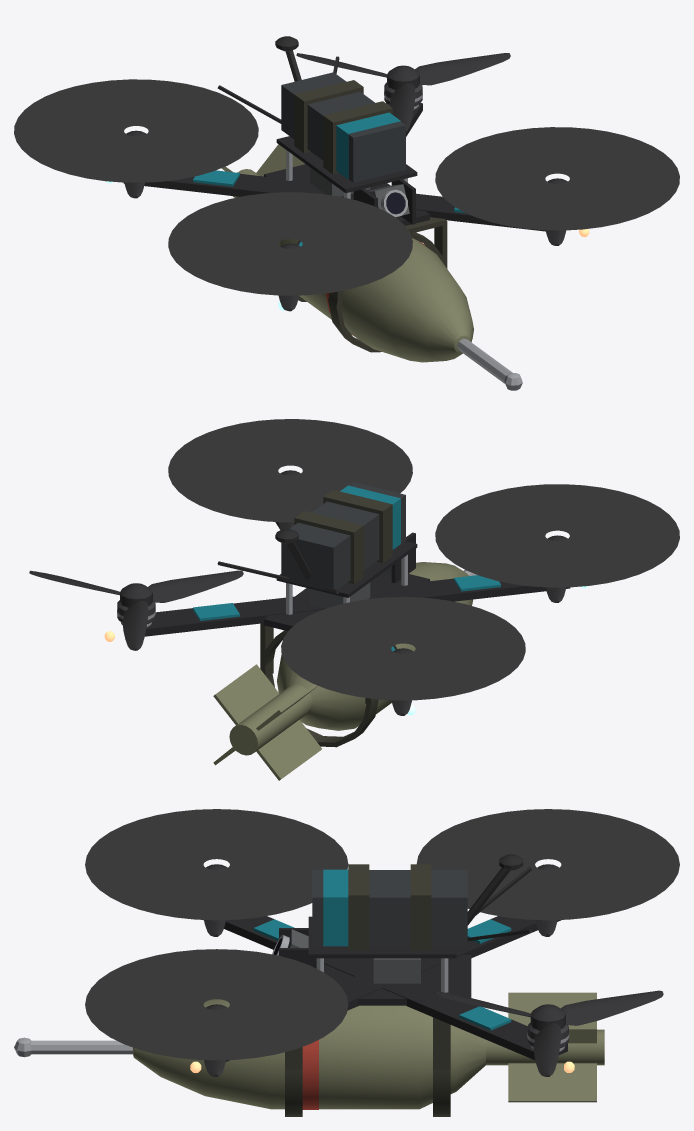
The model's file is Drone_Kamikaze.fbx.
3 views of the same model, one above another, from view 1: azimuth 30°, elevation 25°; view 2: azimuth 150°, elevation 25°; view 3: azimuth 270°, elevation 25° (orthographic). The views are drawn at different scales.
Parts seen in each view (by area): view 1: Blur_1, Blur_2, Blur_0, Body_Warhead, Body_Carbon, Body_Battery, Body_Strap, Prop_3, Body_TealMark, Body_MotorMetal, Body_Rubber, Body_ShellGray; view 2: Blur_0, Blur_1, Blur_2, Body_Warhead, Body_Carbon, Body_Battery, Body_Strap, Prop_3, Body_TealMark, Body_Rubber, Body_ShellGray; view 3: Body_Warhead, Blur_2, Blur_0, Blur_1, Body_Carbon, Body_Battery, Body_Strap, Prop_3, Body_TealMark, Body_MotorMetal, Body_ShellGray, Body_Rubber (+1 smaller).
Part boxes in pixels (x1=…): Blur_1: x1=14, y1=79, x2=258, y2=182; Blur_2: x1=435, y1=127, x2=679, y2=230; Blur_0: x1=168, y1=192, x2=412, y2=295; Body_Warhead: x1=221, y1=144, x2=473, y2=362; Body_Carbon: x1=123, y1=103, x2=545, y2=245; Body_Battery: x1=281, y1=72, x2=405, y2=182; Body_Strap: x1=294, y1=80, x2=447, y2=352; Prop_3: x1=296, y1=53, x2=510, y2=131; Body_TealMark: x1=193, y1=112, x2=465, y2=246; Body_MotorMetal: x1=286, y1=104, x2=522, y2=390; Body_Rubber: x1=217, y1=36, x2=339, y2=123; Body_ShellGray: x1=310, y1=167, x2=409, y2=215; Blur_0: x1=435, y1=484, x2=679, y2=587; Blur_1: x1=281, y1=597, x2=525, y2=700; Blur_2: x1=168, y1=419, x2=412, y2=522; Body_Warhead: x1=213, y1=562, x2=472, y2=780; Body_Carbon: x1=145, y1=522, x2=570, y2=700; Body_Battery: x1=281, y1=482, x2=405, y2=591; Body_Strap: x1=260, y1=490, x2=430, y2=747; Prop_3: x1=29, y1=570, x2=243, y2=650; Body_TealMark: x1=193, y1=485, x2=500, y2=651; Body_Rubber: x1=217, y1=528, x2=339, y2=593; Body_ShellGray: x1=310, y1=566, x2=391, y2=608; Body_Warhead: x1=133, y1=992, x2=604, y2=1109; Blur_2: x1=85, y1=949, x2=348, y2=1060; Blur_0: x1=85, y1=809, x2=348, y2=920; Blur_1: x1=416, y1=809, x2=679, y2=920; Body_Carbon: x1=203, y1=916, x2=567, y2=1061; Body_Battery: x1=312, y1=870, x2=467, y2=945; Body_Strap: x1=285, y1=864, x2=450, y2=1116; Prop_3: x1=433, y1=990, x2=663, y2=1076; Body_TealMark: x1=253, y1=869, x2=511, y2=1030; Body_MotorMetal: x1=14, y1=935, x2=565, y2=1057; Body_ShellGray: x1=287, y1=929, x2=420, y2=983; Body_Rubber: x1=467, y1=854, x2=531, y2=941.
Bounding box in the file's own units: 0.402 × 0.1895 × 0.45.
